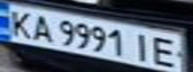1: (106, 26, 130, 57)
9: (54, 17, 78, 47), (87, 24, 109, 54), (72, 20, 93, 51)
A: (27, 12, 57, 43)
E: (148, 34, 187, 69)
I: (127, 30, 157, 63)
K: (3, 7, 36, 38)
